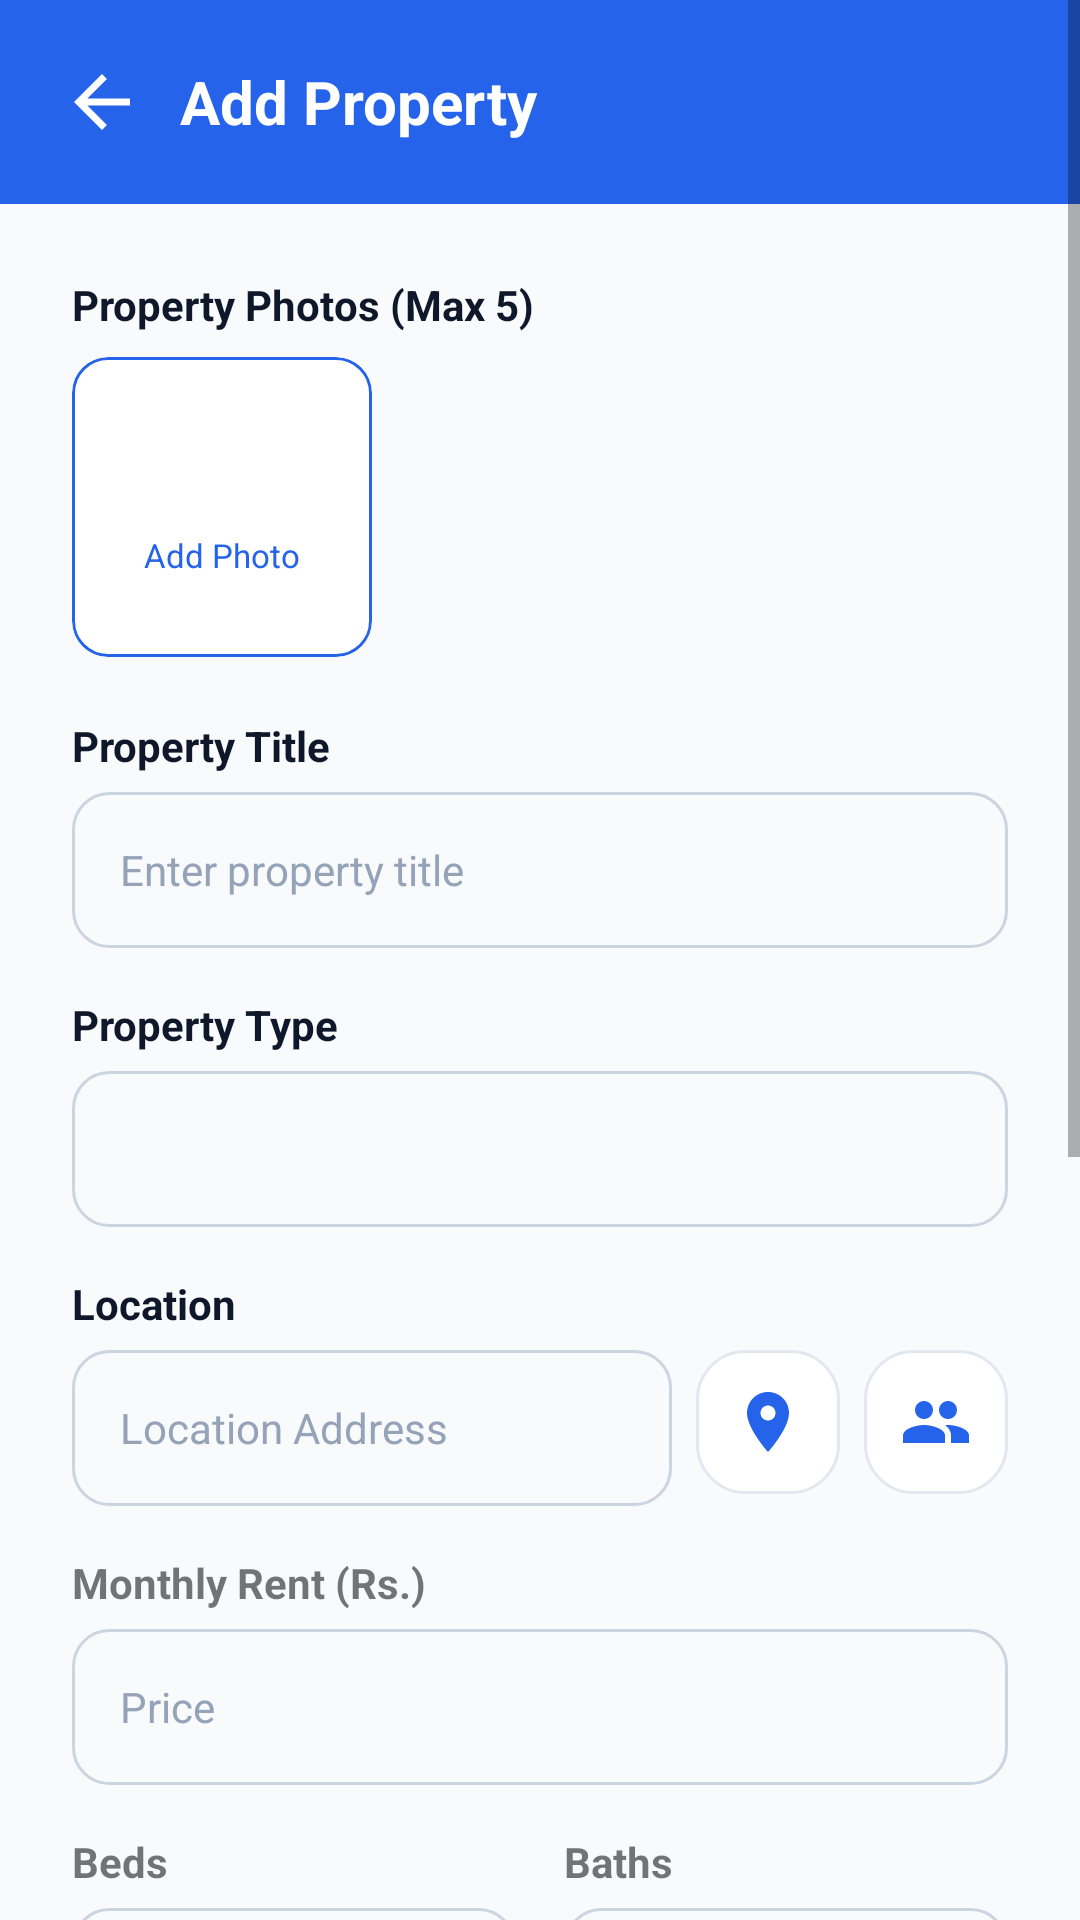

Icons on this 1080×1920 Android screen, each with its box as (x1, y1, x2, y2):
Back: (74, 74, 130, 130)
share person: (903, 1401, 969, 1443)
